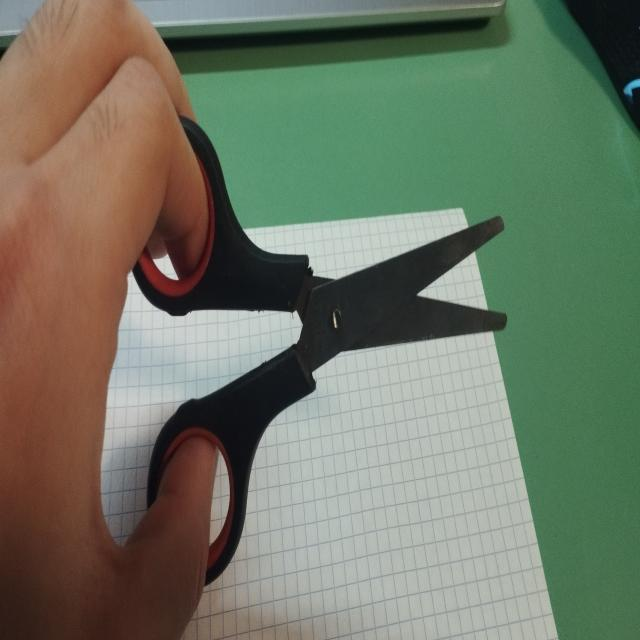tesoura: (120, 93, 512, 592)
